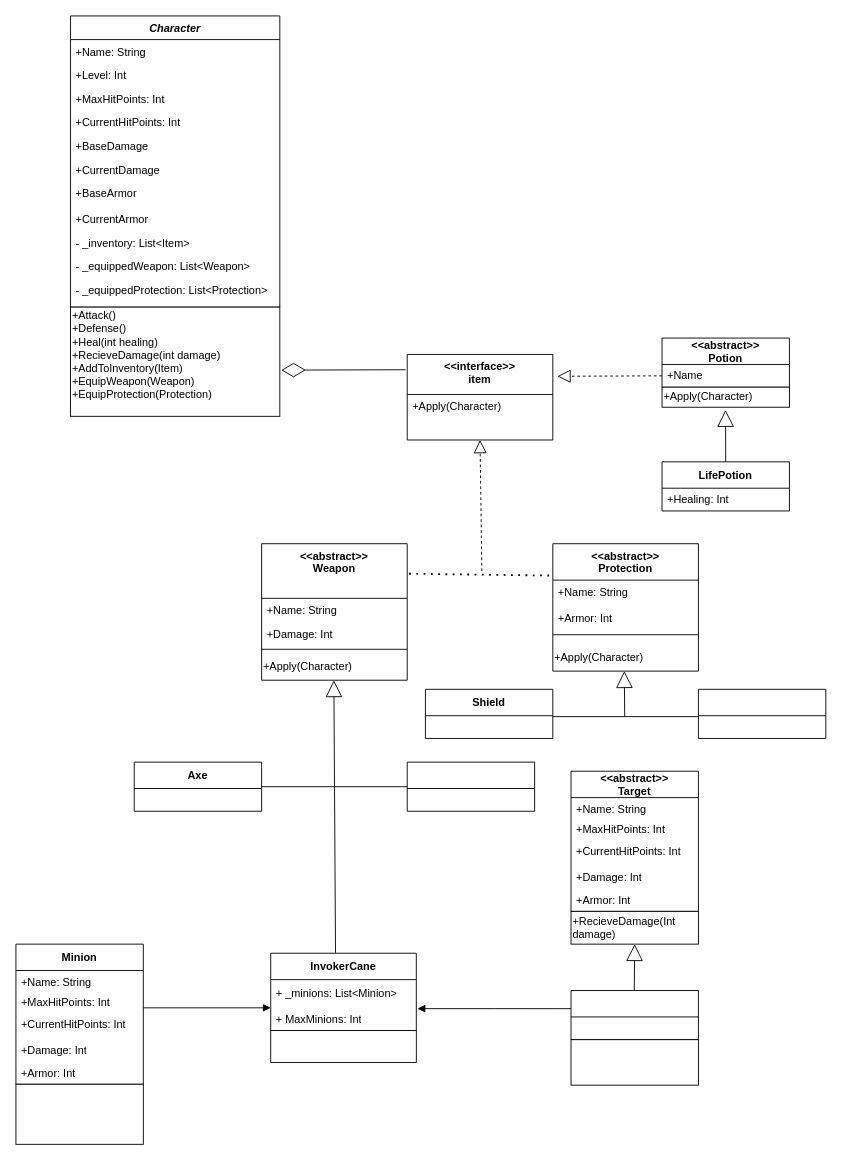
Image size: 842x1160. Some labels were removed from this diagram. Each missing label, with the centre of its shape:
"+Attack() +Defense()" belongs at [634,1062].
"+Attack() +Defense() +RecieveDamage(Int damage)" belongs at [79,1113].
"+SummonMinion(Minion) +OrderAttack(Target)" belongs at [343,1046].
"Goblin" belongs at [634,1015].
"Helmet" belongs at [762,713].
"Sword" belongs at [470,786].
